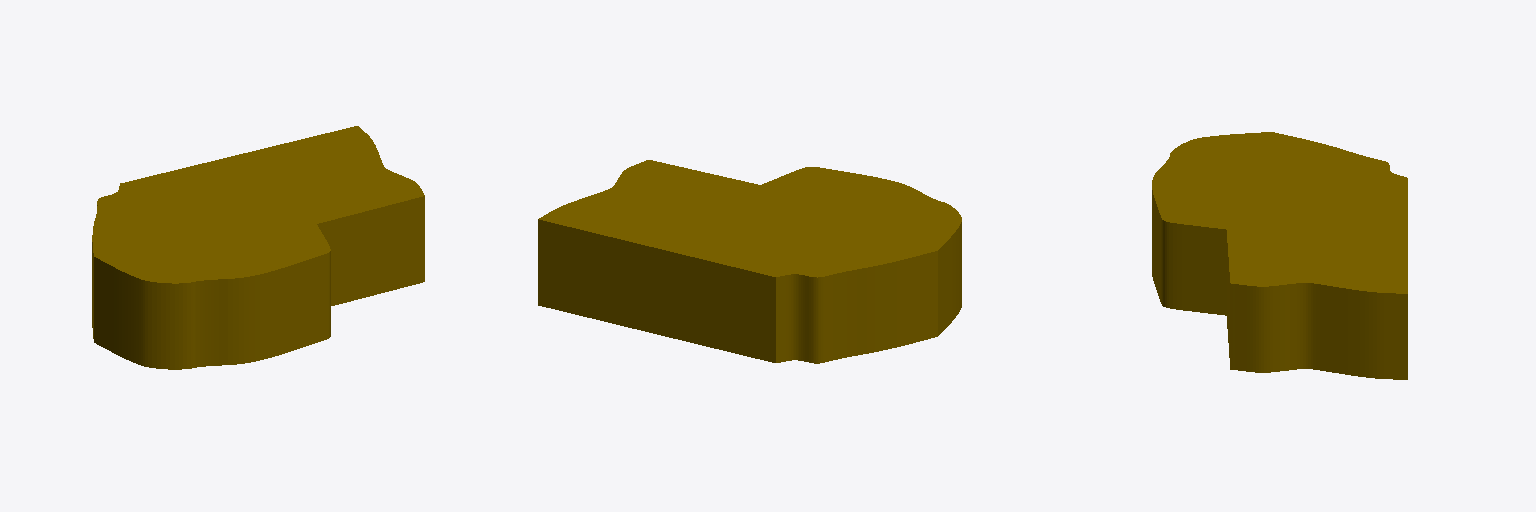
3 views of the same model, side by side, from view 1: azimuth 30°, elevation 25°; view 2: azimuth 150°, elevation 25°; view 3: azimuth 270°, elevation 25° (orthographic).
Visible parts, largest first — view 1: Curve.008_path4184; view 2: Curve.008_path4184; view 3: Curve.008_path4184.
Boxes of the visible parts, x1=… form: Curve.008_path4184: x1=92, y1=126, x2=424, y2=369; Curve.008_path4184: x1=538, y1=160, x2=961, y2=363; Curve.008_path4184: x1=1152, y1=132, x2=1407, y2=379.
Bounding box in the file's own units: 0.4037 × 0.1 × 0.2695.